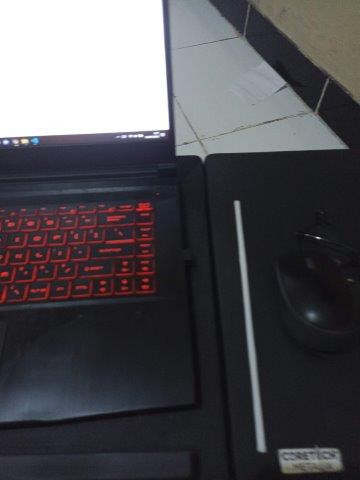sedotan: (233, 200, 266, 452)
